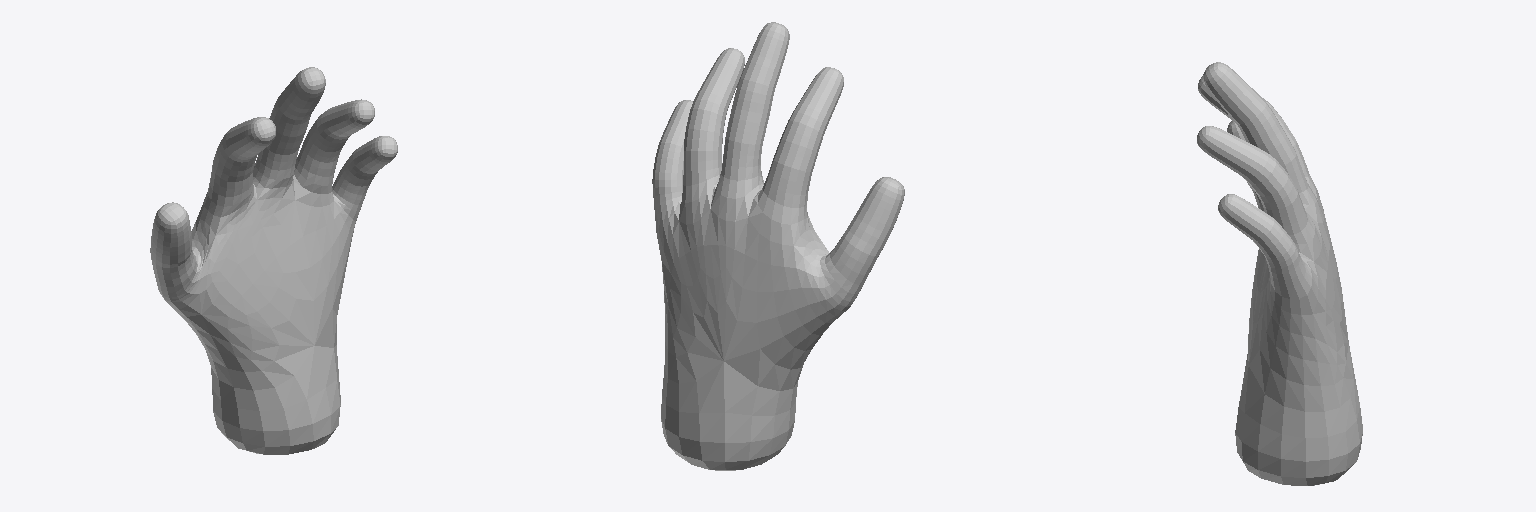
Rendered from handanimatsion11.obj.
3 renders of one model, left to right at view 1: azimuth 30°, elevation 25°; view 2: azimuth 150°, elevation 25°; view 3: azimuth 270°, elevation 25°, orthographic.
Parts seen in each view (by area): view 1: Cube; view 2: Cube; view 3: Cube.
Boxes of the visible parts, <box> form: Cube: <box>150,67,397,454</box>; Cube: <box>652,22,904,470</box>; Cube: <box>1197,62,1362,485</box>.
Bounding box in the file's own units: 3.71 × 6.21 × 2.3.